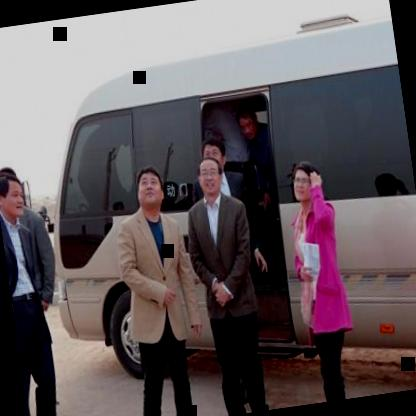head: (128, 162, 169, 214), (0, 164, 29, 223), (288, 156, 320, 205), (231, 98, 267, 140), (194, 153, 226, 198), (196, 133, 228, 172)
